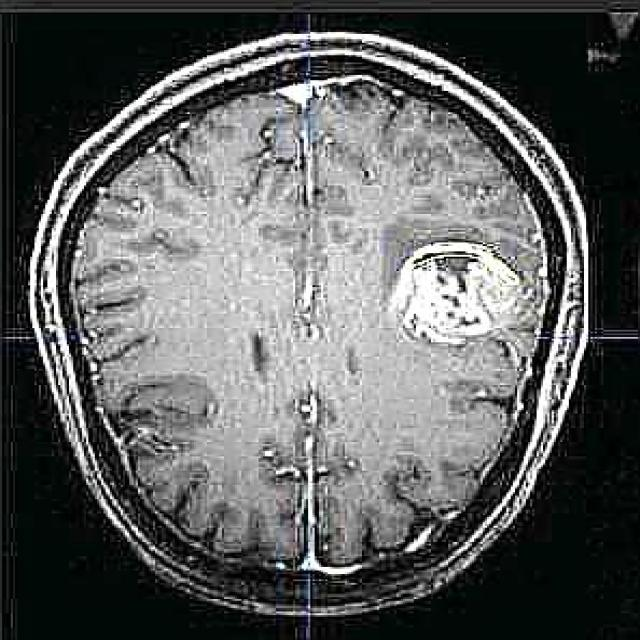Tumor-Cell: (398, 244, 538, 362)
